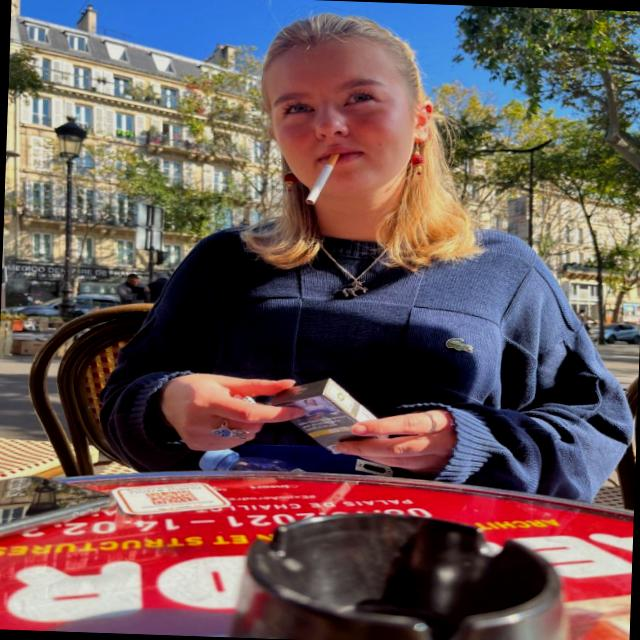smoke: (286, 148, 359, 220)
